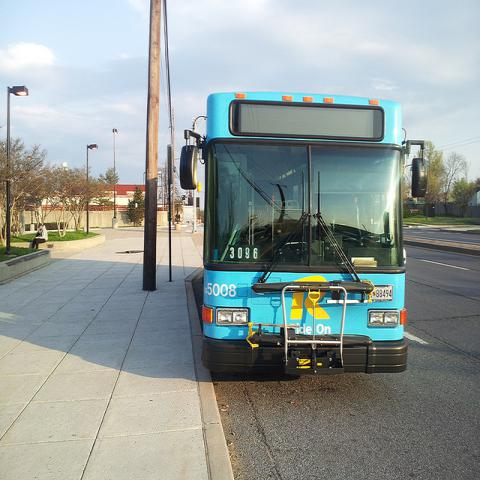bus: (177, 88, 433, 374)
